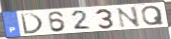2: (71, 9, 93, 32)
3: (94, 8, 116, 30)
6: (47, 11, 67, 33)
D: (20, 12, 45, 35)
N: (116, 6, 142, 29)
Q: (141, 5, 166, 27)
